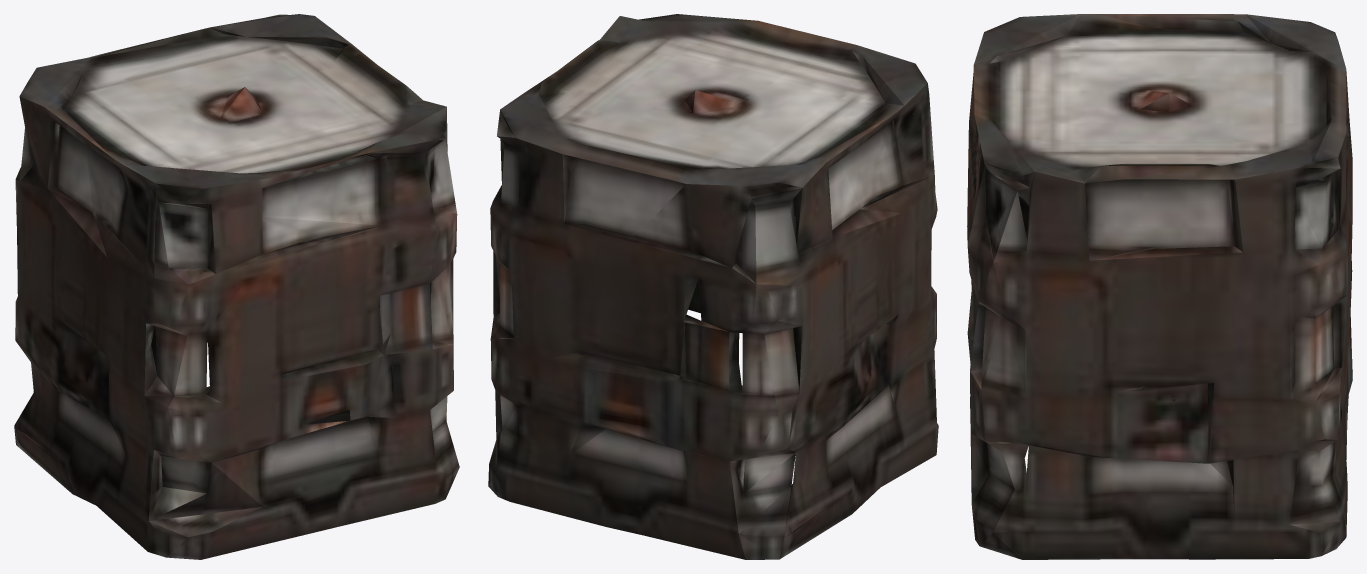
File: cargo_ibc_tank.glb
3 renders of one model, left to right at view 1: azimuth 30°, elevation 25°; view 2: azimuth 150°, elevation 25°; view 3: azimuth 270°, elevation 25°, orthographic. The views are drawn at different scales.
Visible parts, largest first — view 1: turn; view 2: turn; view 3: turn.
Boxes of the visible parts, bbox=[...] form: turn: bbox=[14, 14, 459, 559]; turn: bbox=[488, 14, 938, 559]; turn: bbox=[967, 14, 1352, 559].
Size of the model in its own units: 1.06 by 1.2 by 1.06.
Materials: 1 (1 with a texture image).
